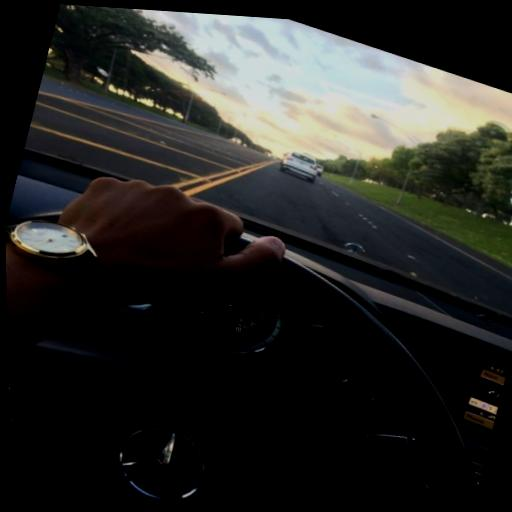Hands-on-the-Wheel: (2, 105, 351, 364)
